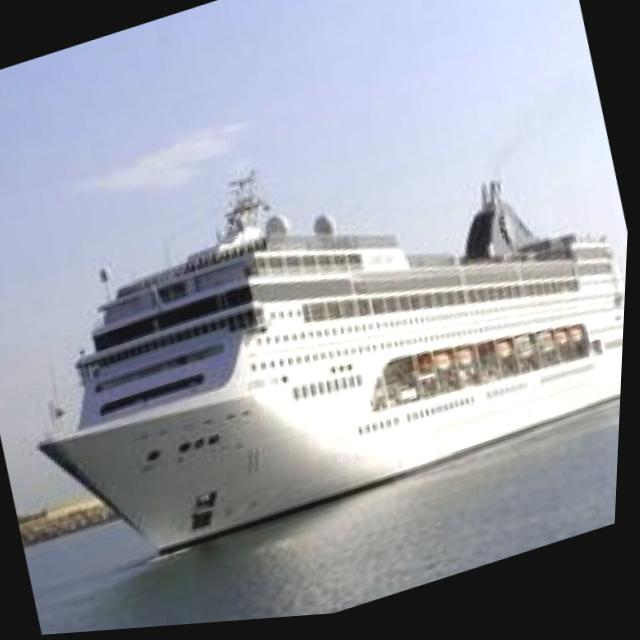ship2: (41, 172, 628, 564)
